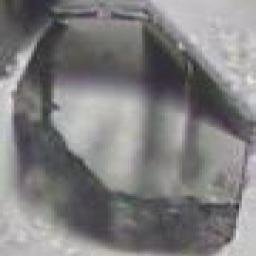crystals: (11, 5, 251, 252)
